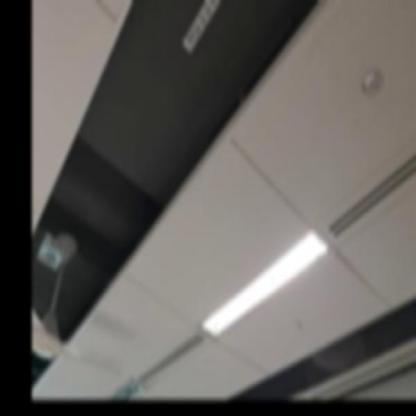light_on: (198, 215, 336, 346)
